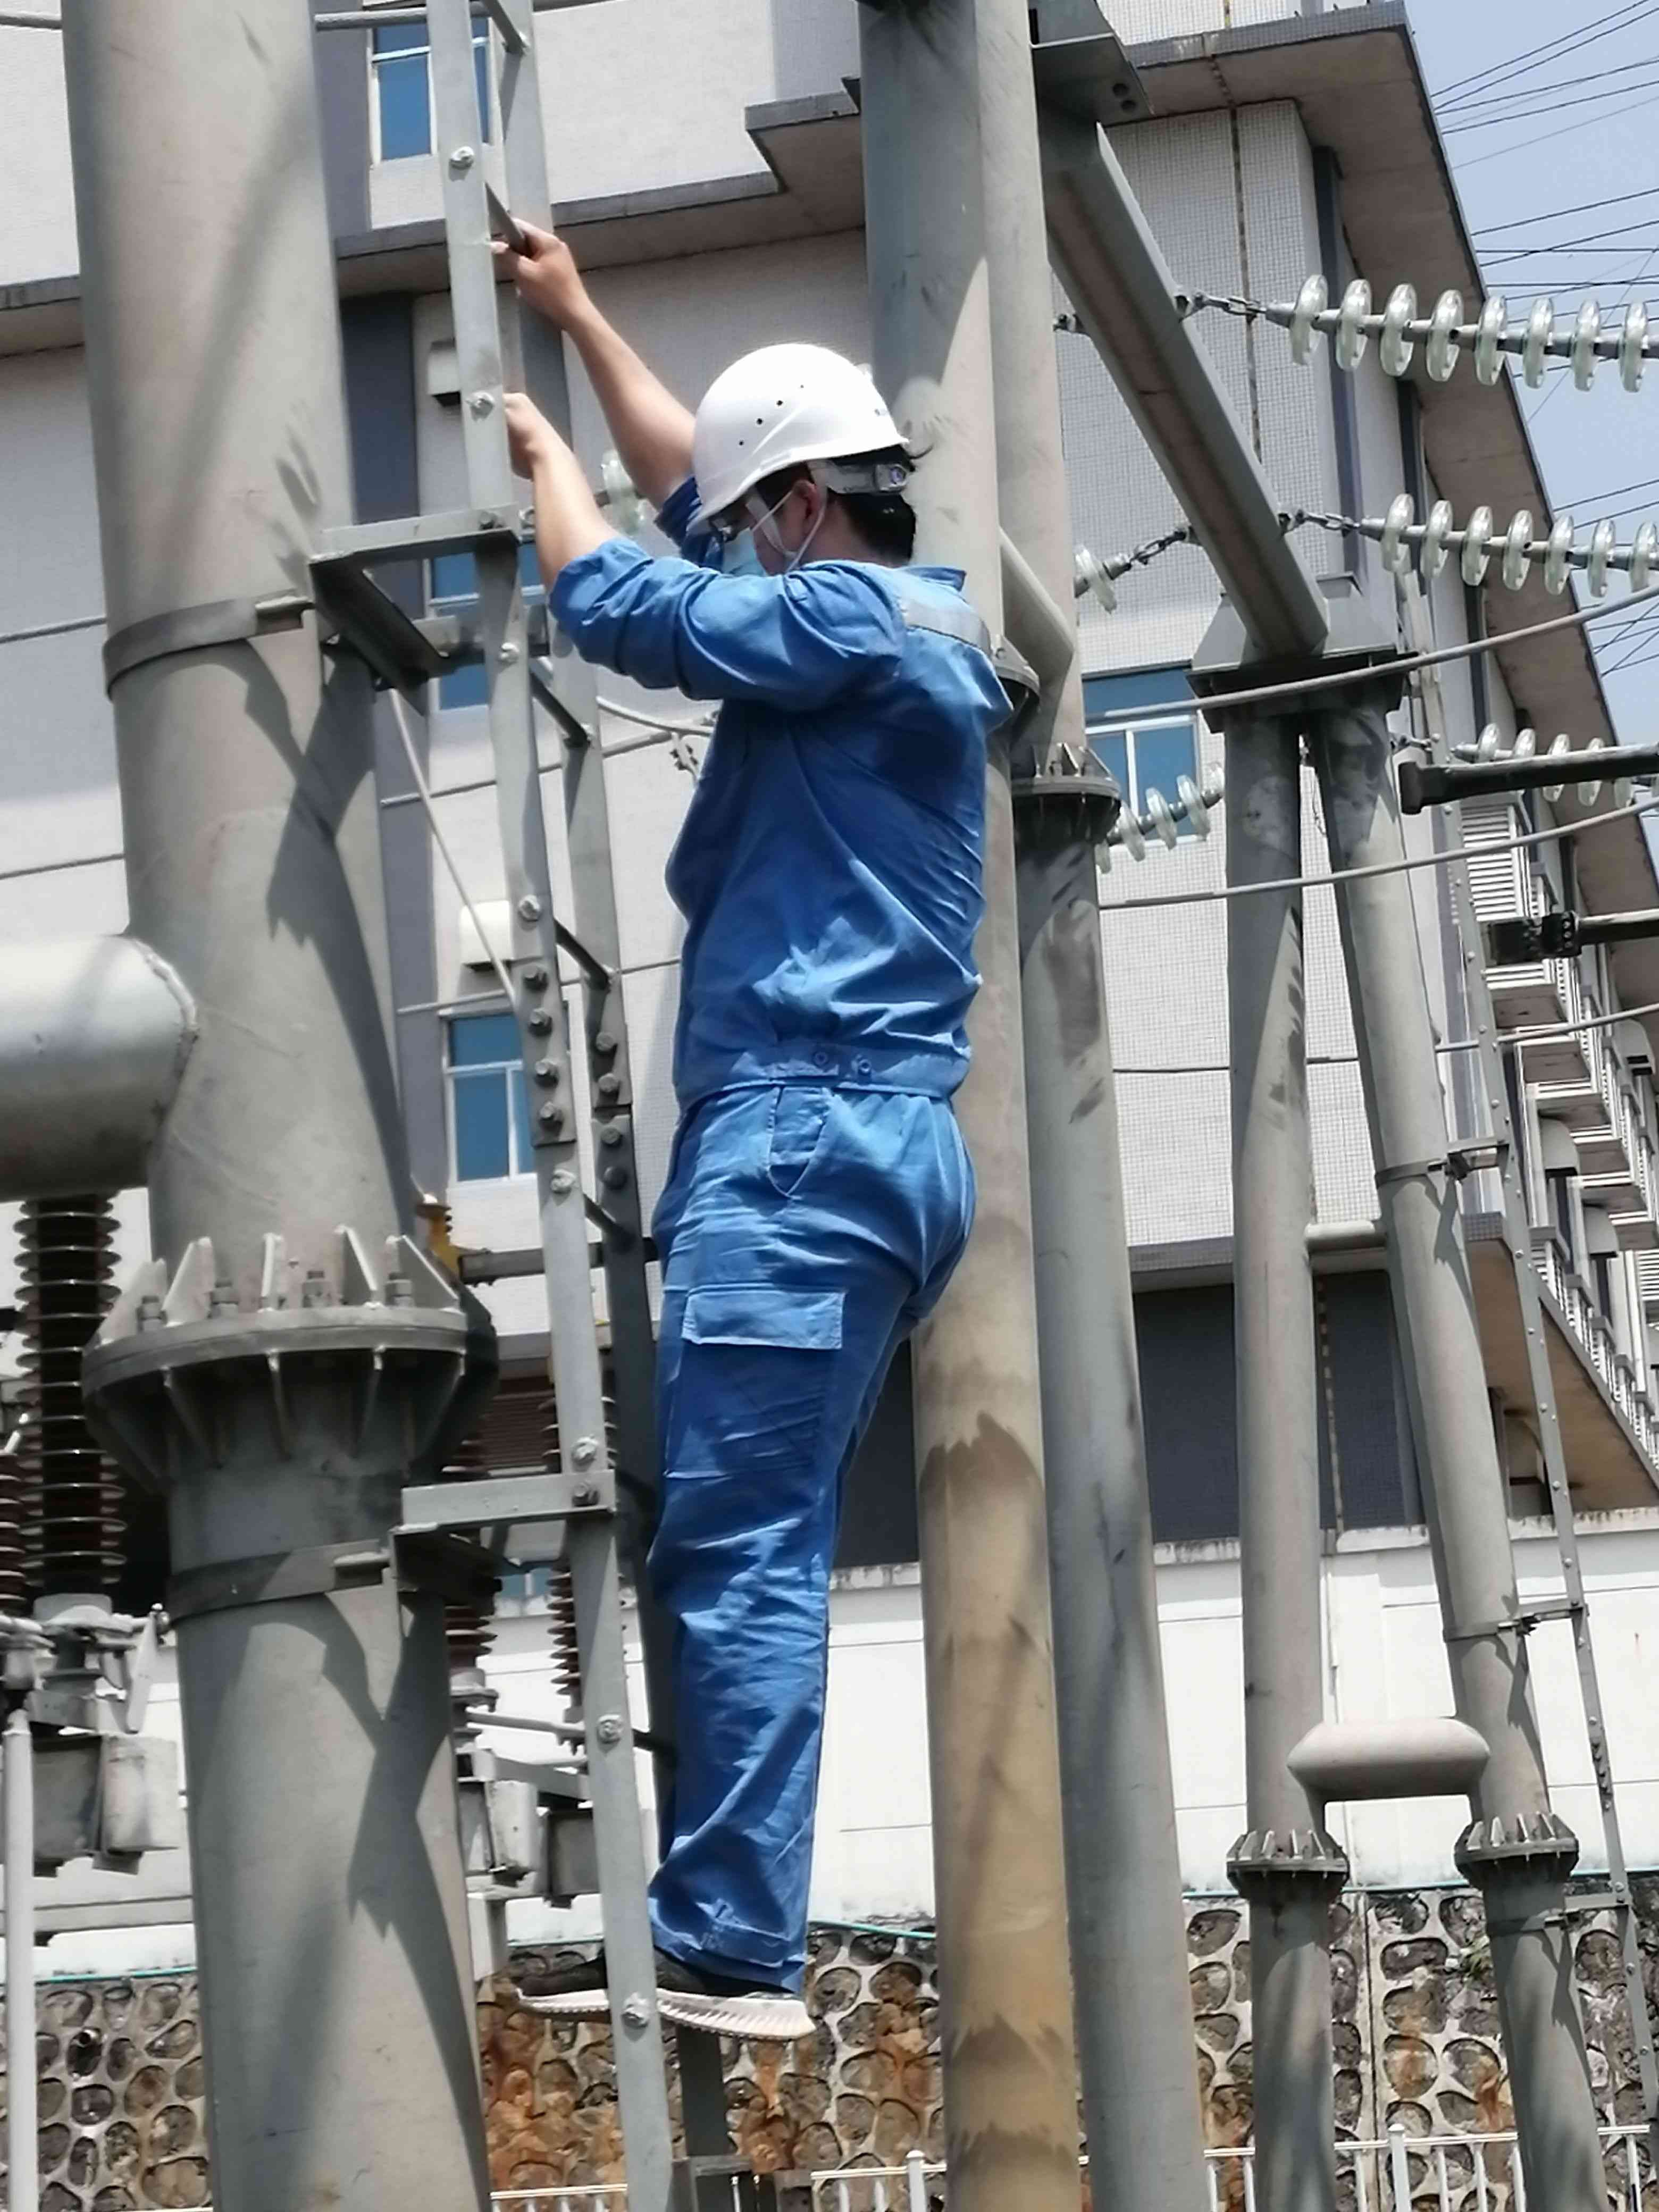downsuit: (645, 1134, 986, 1965)
upsuit: (575, 547, 1028, 1094)
wrongtop: (493, 233, 721, 596)
